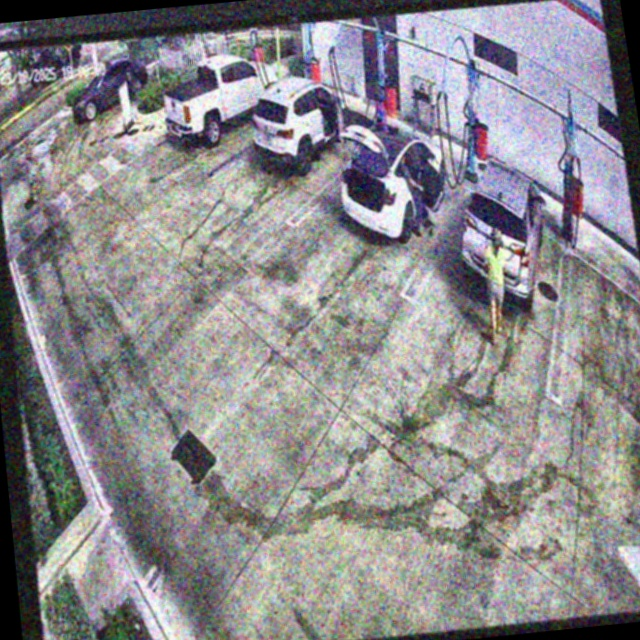Car: (452, 157, 557, 317), (333, 114, 451, 245), (159, 49, 289, 152), (249, 75, 360, 180)
